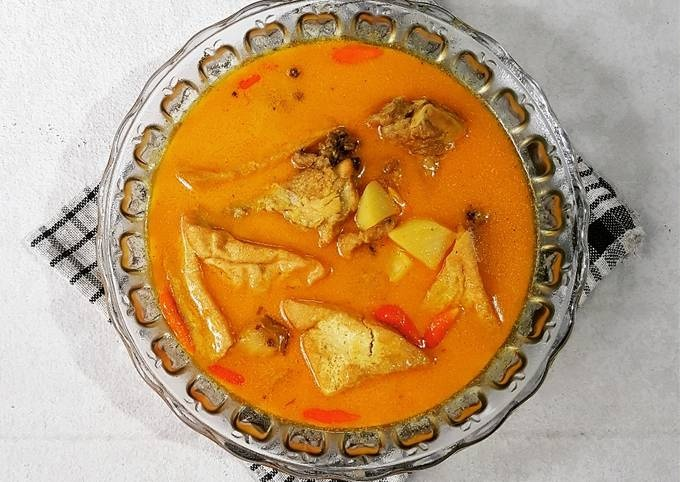gulai_ayam: (104, 31, 545, 439)
